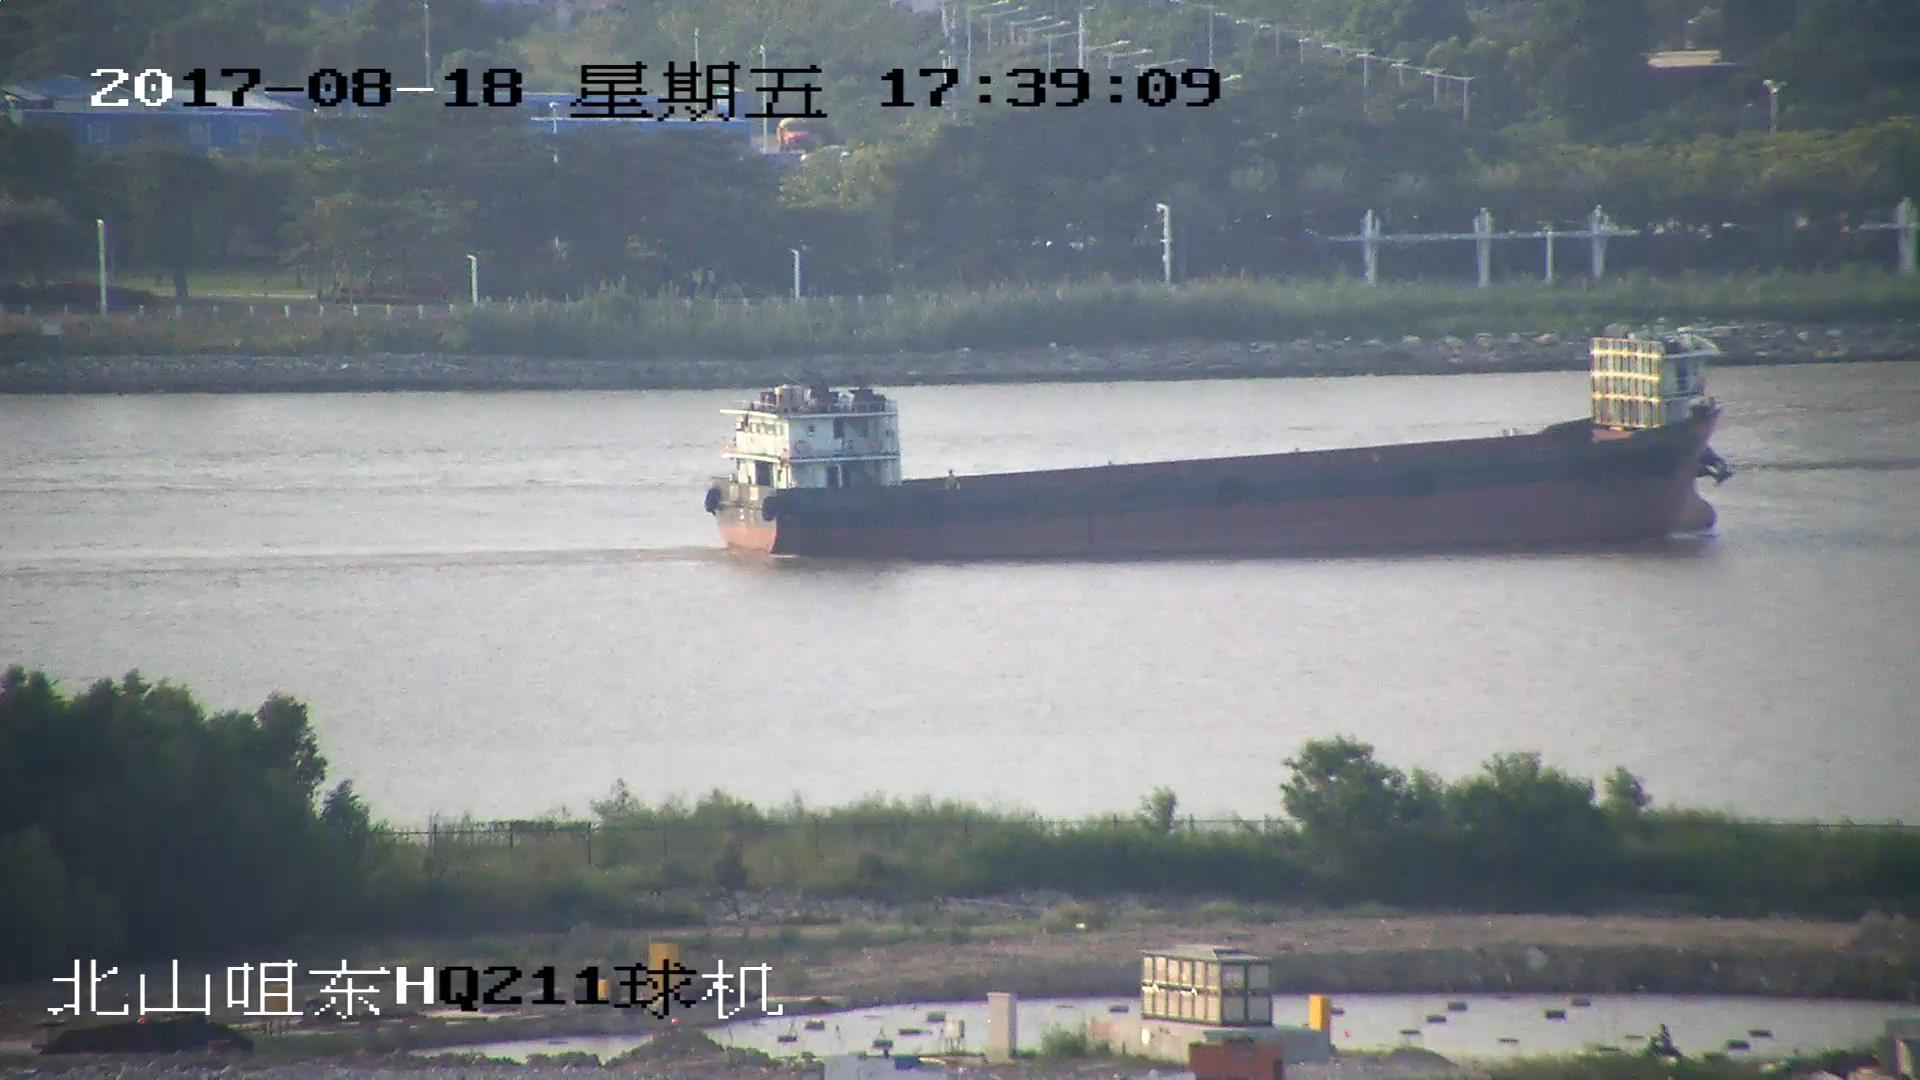Ship: (713, 313, 1724, 563)
